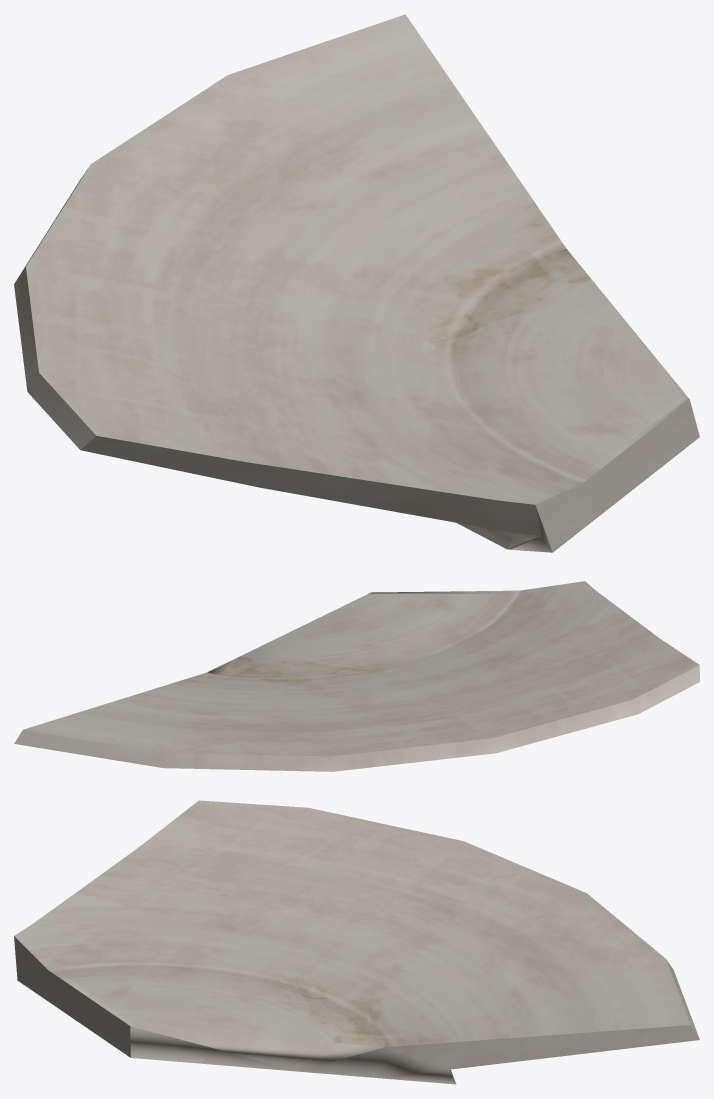
Rendered from PlateRegularShardA.fbx.
3 renders of one model, top to bottom at view 1: azimuth 30°, elevation 25°; view 2: azimuth 150°, elevation 25°; view 3: azimuth 270°, elevation 25°, orthographic. The views are drawn at different scales.
Visible parts, largest first — view 1: Default_Layer; view 2: Default_Layer; view 3: Default_Layer.
Boxes of the visible parts, x1,y1,x2,y2 form: Default_Layer: (14, 14, 699, 552); Default_Layer: (14, 581, 699, 771); Default_Layer: (14, 800, 699, 1084).
Size of the model in its own units: 39.52 by 5.6 by 49.87.
